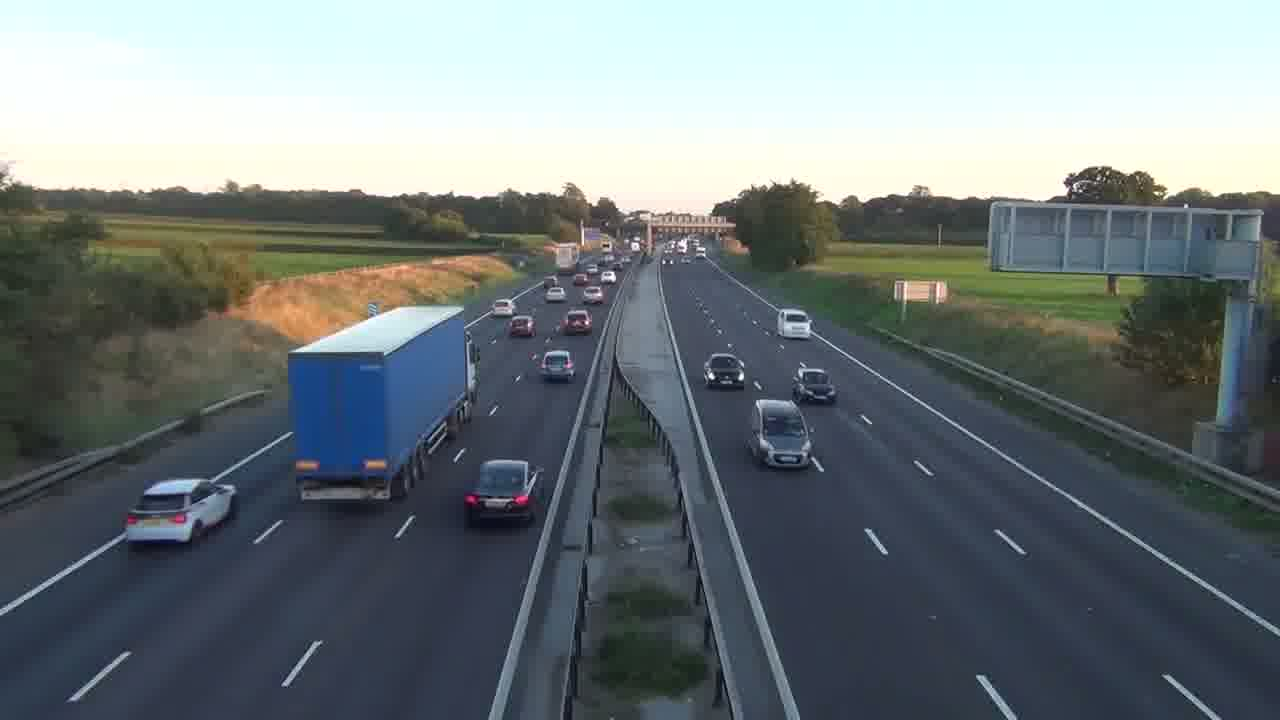car: (464, 459, 545, 528), (746, 397, 815, 470), (792, 367, 837, 405), (703, 353, 746, 390), (533, 349, 575, 382), (559, 309, 593, 335)
truck: (288, 305, 473, 504), (124, 477, 238, 545)
